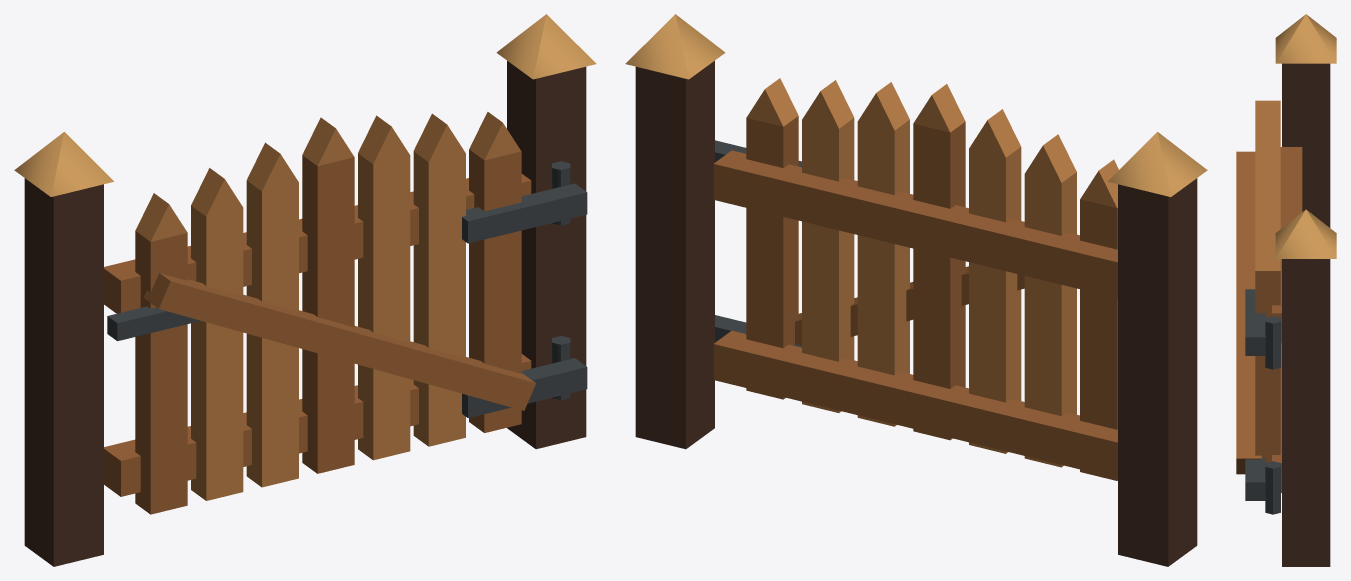
The model's file is 17_garden_gate.fbx.
3 views of the same model, side by side, from view 1: azimuth 30°, elevation 25°; view 2: azimuth 150°, elevation 25°; view 3: azimuth 270°, elevation 25° (orthographic). The views are drawn at different scales.
Parts seen in each view (by area): view 1: 17_garden_gate; view 2: 17_garden_gate; view 3: 17_garden_gate.
Boxes of the visible parts, <box> form: 17_garden_gate: <box>14,14,596,566</box>; 17_garden_gate: <box>625,14,1207,566</box>; 17_garden_gate: <box>1236,14,1336,566</box>.
Bounding box in the file's own units: 2.06 × 1.51 × 0.3952.
Materials: 1 (1 with a texture image).
